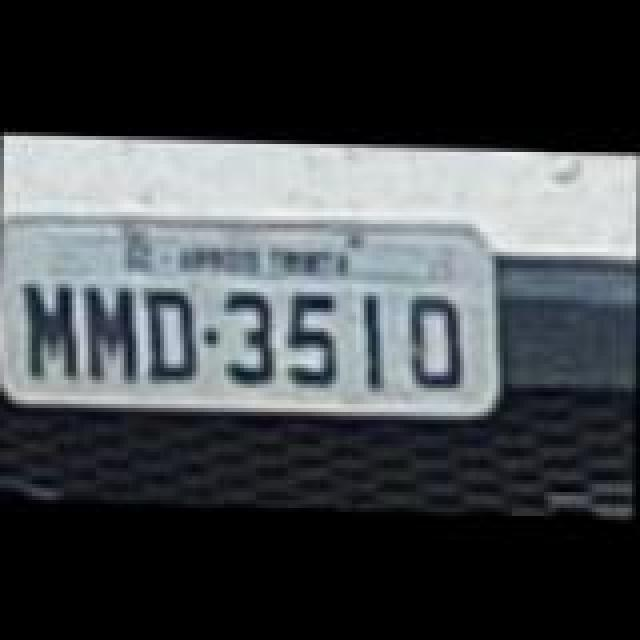1: (358, 290, 398, 386)
3: (218, 284, 282, 380)
5: (282, 288, 346, 384)
D: (408, 292, 476, 388), (144, 284, 204, 380)
M: (14, 278, 86, 378), (76, 284, 144, 384)
